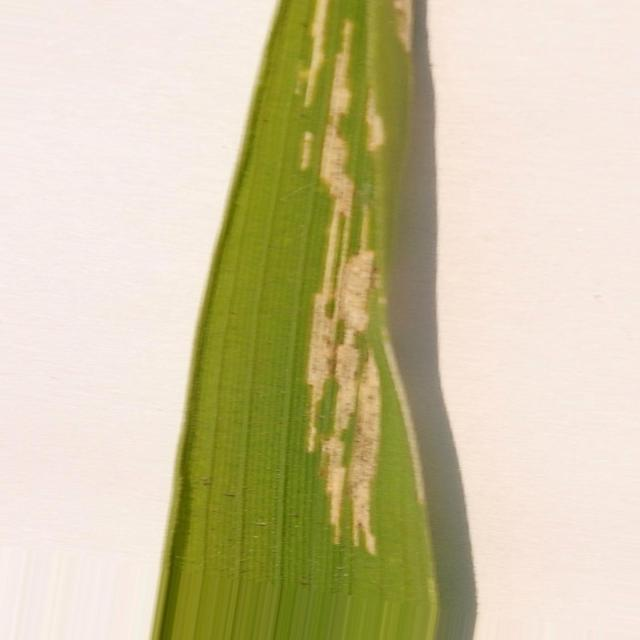Bacterial_Leaf_Blight: (306, 19, 424, 555), (305, 0, 329, 108), (360, 88, 389, 160), (391, 0, 412, 53), (301, 131, 315, 168)
